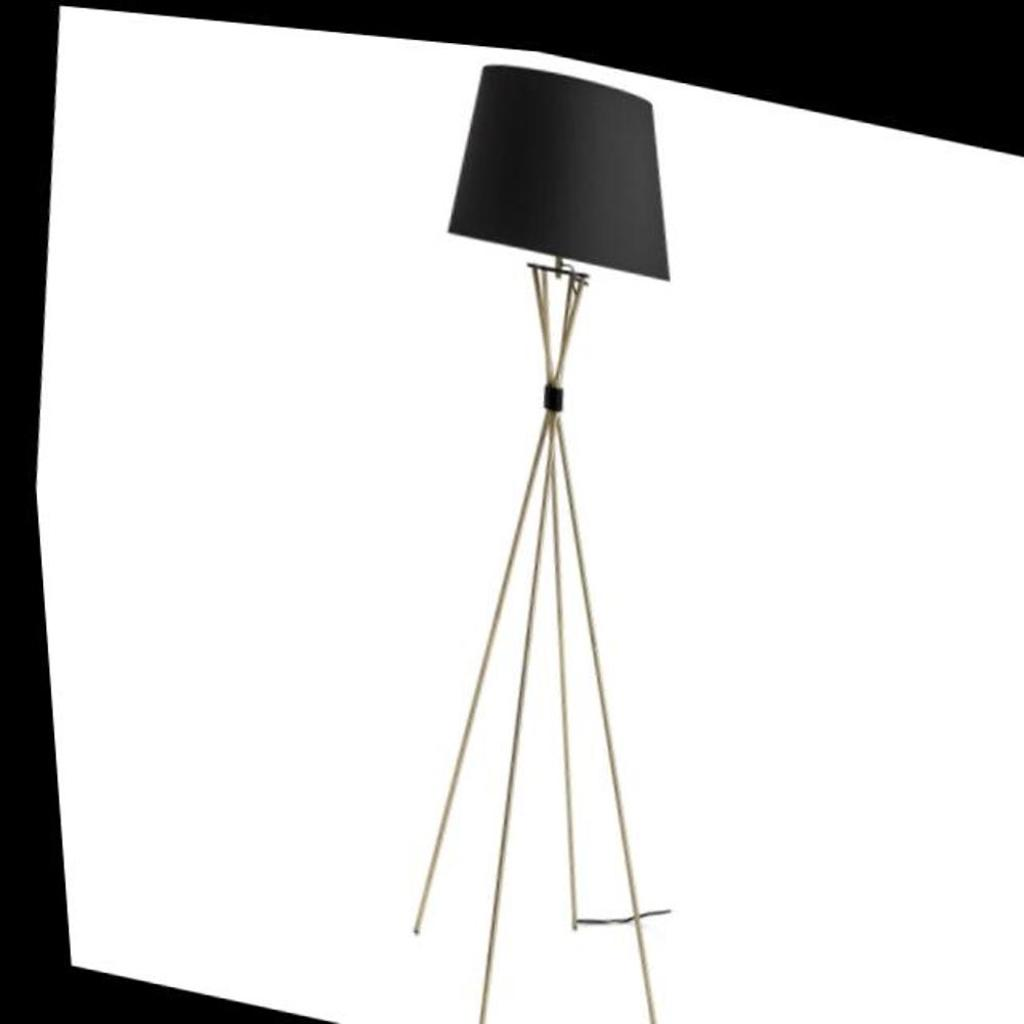shelf: (320, 24, 780, 1024)
